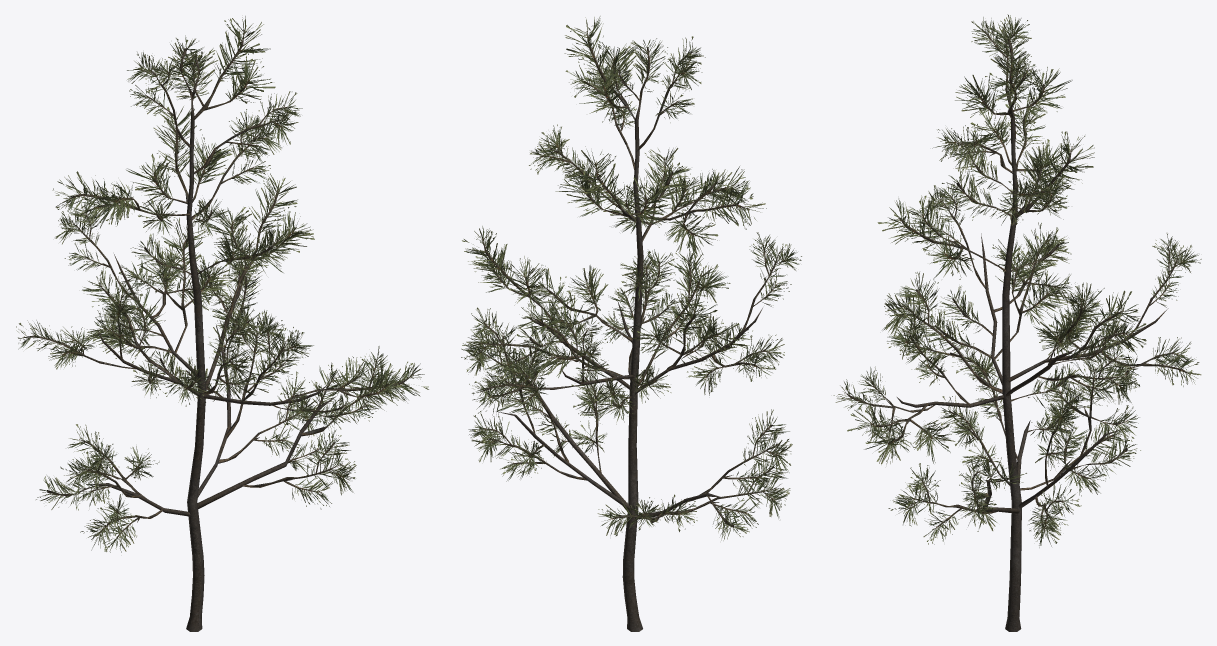
File: pine_sapling_small_r2.glb
The picture shows the model from 3 angles, left to right: view 1: azimuth 30°, elevation 25°; view 2: azimuth 150°, elevation 25°; view 3: azimuth 270°, elevation 25°; orthographic projection.
Parts seen in each view (by area): view 1: pine_sapling_small_r2_foliage, pine_sapling_small_r2_trunk; view 2: pine_sapling_small_r2_foliage, pine_sapling_small_r2_trunk; view 3: pine_sapling_small_r2_foliage, pine_sapling_small_r2_trunk.
Boxes of the visible parts, box(x1,y1,x2,y2) form: pine_sapling_small_r2_foliage: box(16, 16, 428, 552); pine_sapling_small_r2_trunk: box(89, 94, 337, 631); pine_sapling_small_r2_foliage: box(461, 16, 801, 540); pine_sapling_small_r2_trunk: box(497, 92, 762, 631); pine_sapling_small_r2_foliage: box(833, 14, 1201, 547); pine_sapling_small_r2_trunk: box(897, 90, 1168, 631).
Size of the model in its own units: 0.7875 by 1.3 by 0.7276.
2 materials, 2 textured.
